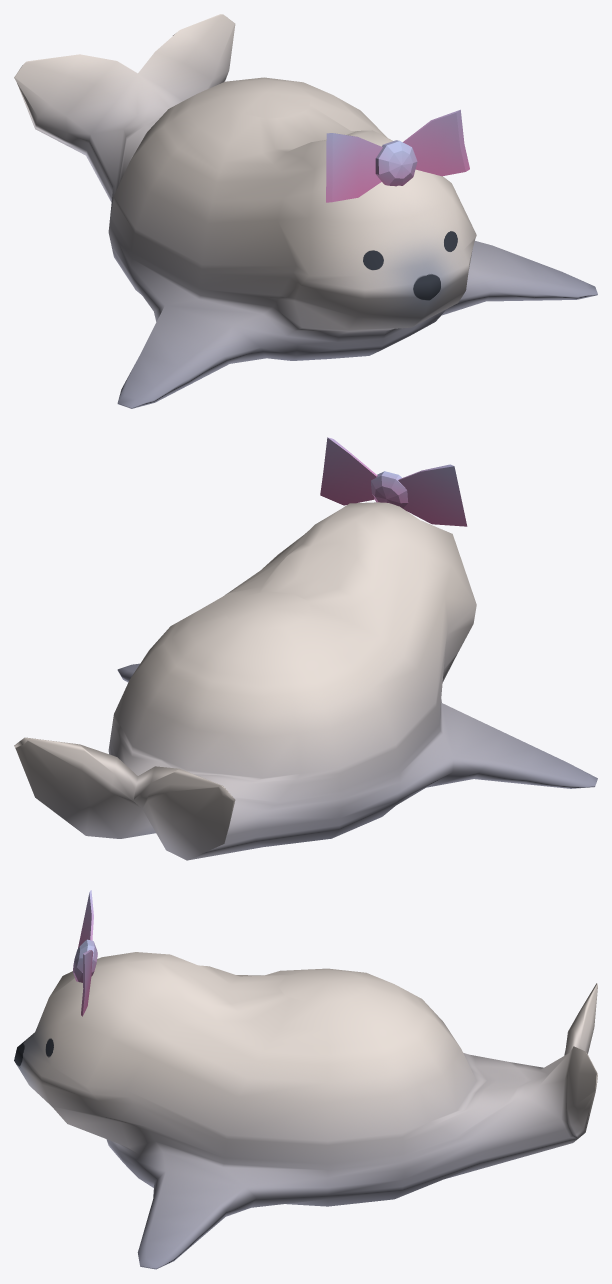
File: furseal.fbx
The picture shows the model from 3 angles, top to bottom: view 1: azimuth 30°, elevation 25°; view 2: azimuth 150°, elevation 25°; view 3: azimuth 270°, elevation 25°; orthographic projection. The views are drawn at different scales.
Parts seen in each view (by area): view 1: polySurface15; view 2: polySurface15; view 3: polySurface15.
Part boxes in pixels (x1,y1,x2,y2): polySurface15: (14, 14, 597, 408); polySurface15: (14, 437, 597, 860); polySurface15: (14, 890, 597, 1269).
Bounding box in the file's own units: 2.92 × 1.53 × 3.26.
